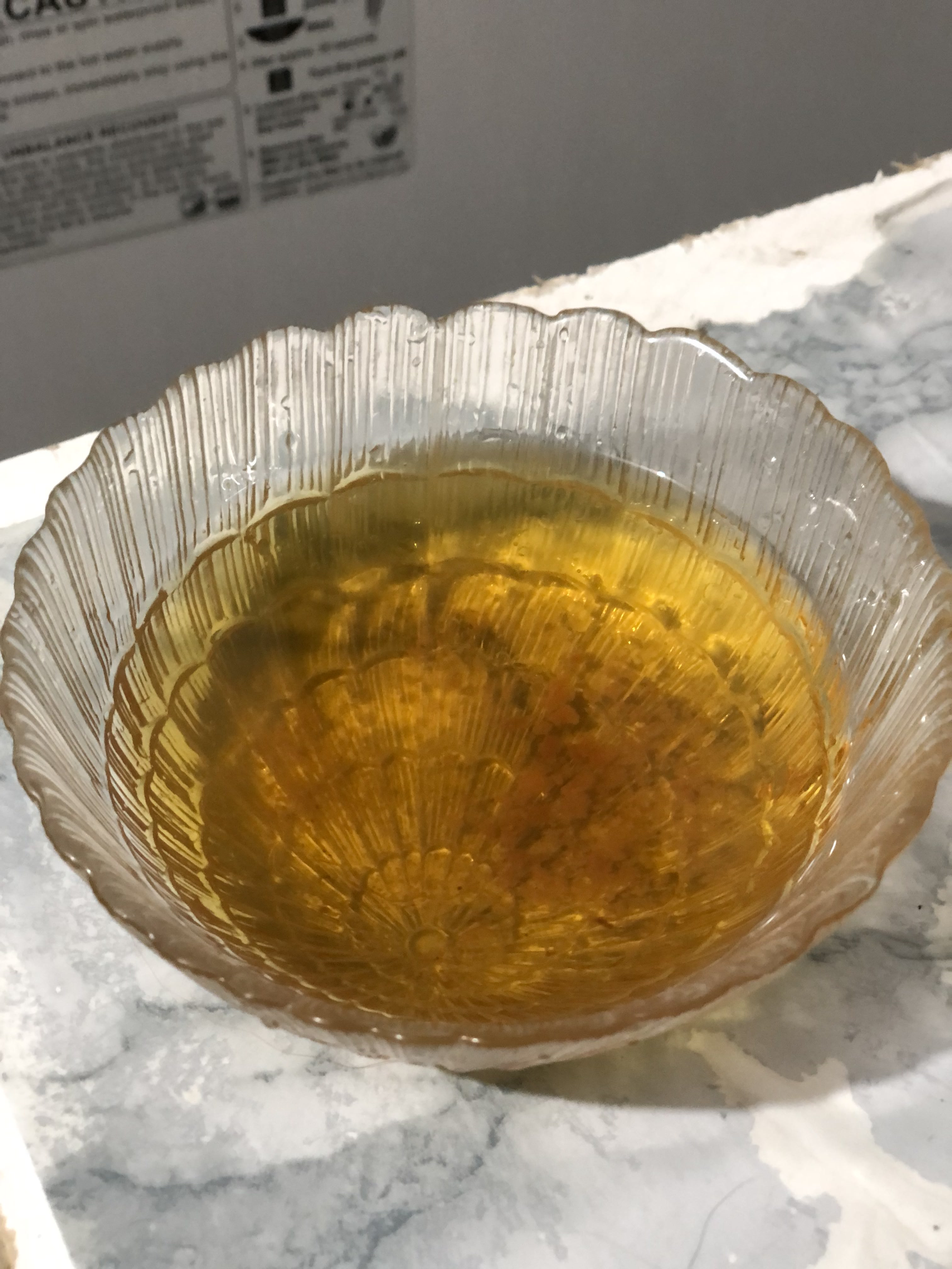reusable: (113, 434, 841, 1032)
